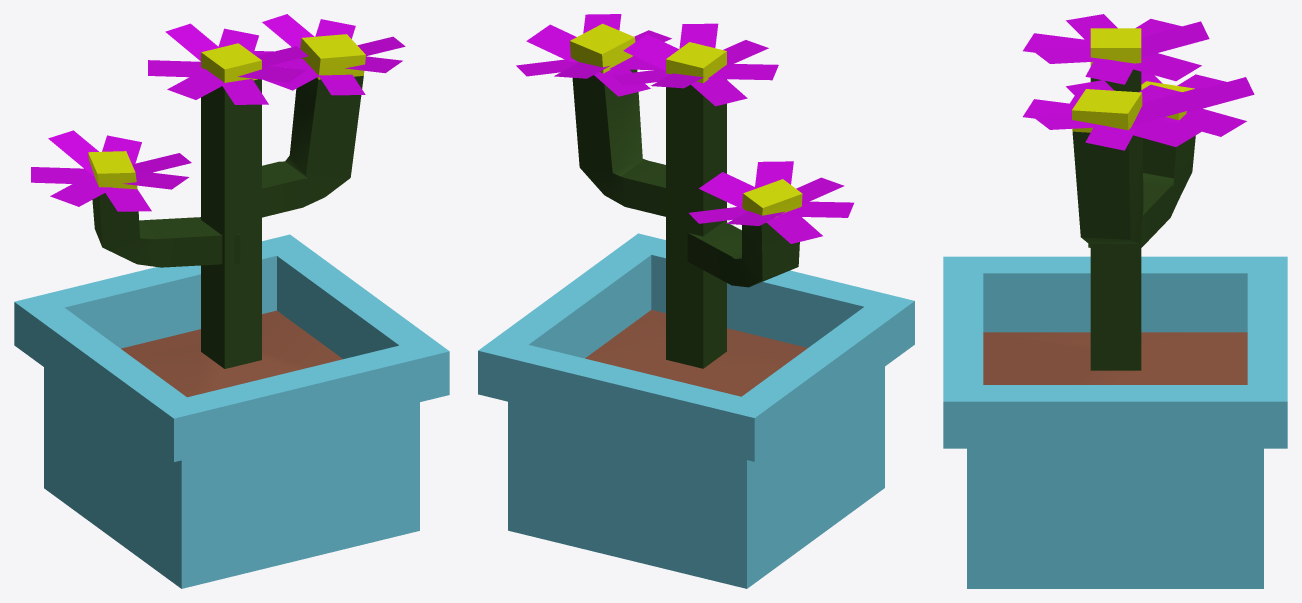
The picture shows the model from 3 angles, left to right: view 1: azimuth 30°, elevation 25°; view 2: azimuth 150°, elevation 25°; view 3: azimuth 270°, elevation 25°; orthographic projection. The views are drawn at different scales.
Parts seen in each view (by area): view 1: C; view 2: C; view 3: C.
Boxes of the visible parts, x1,y1,x2,y2 form: C: (14, 14, 449, 588); C: (478, 14, 914, 588); C: (943, 14, 1287, 588).
Bounding box in the file's own units: 98.02 × 128 × 81.62.
